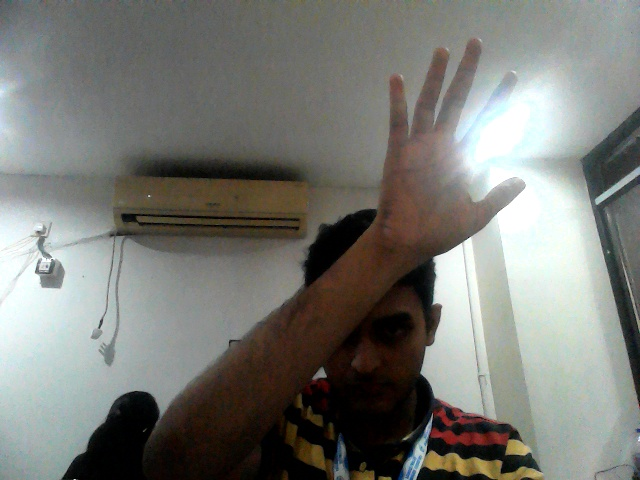palm: (379, 34, 531, 266)
